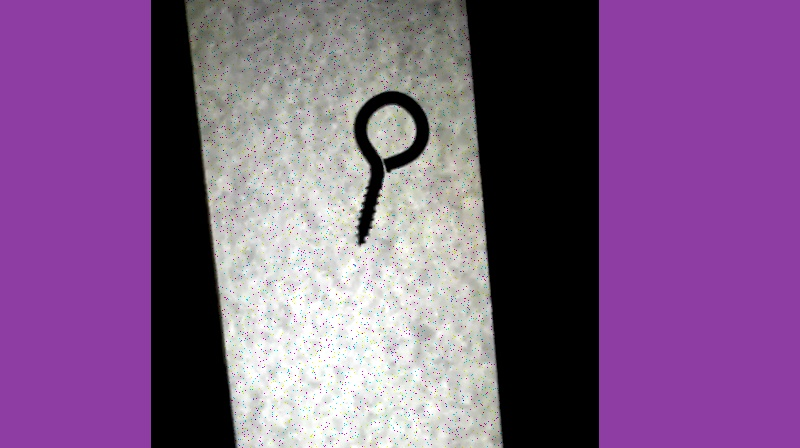O001: (352, 87, 431, 248)
